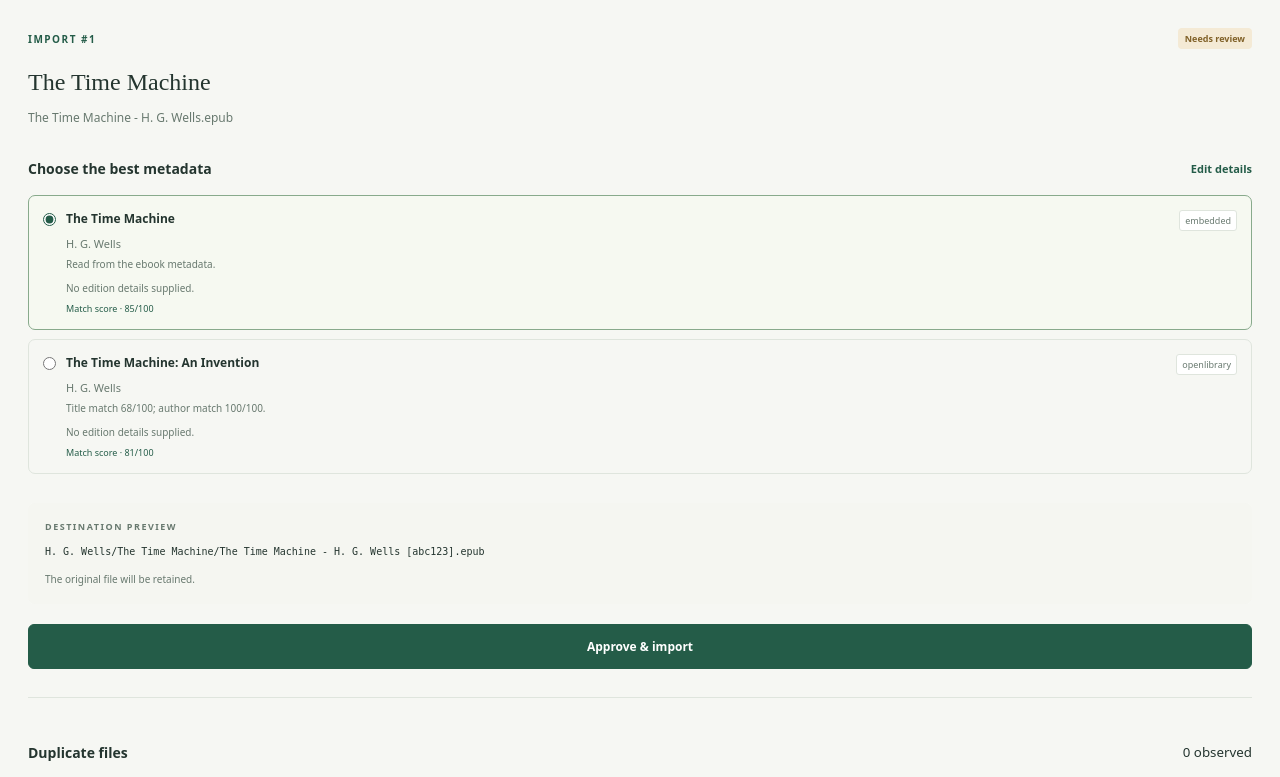
Scenario: keeps the review available after a failed approval
This screenshot has width=1280, height=777.
Expected: the text "H. G. Wells/The Time Machine/The Time Machine - H. G. Wells [abc123].epub" is shown, [45,546,484,557]
Click the button "Approve & import". click: (640, 646)
box: [28,624,1252,669]
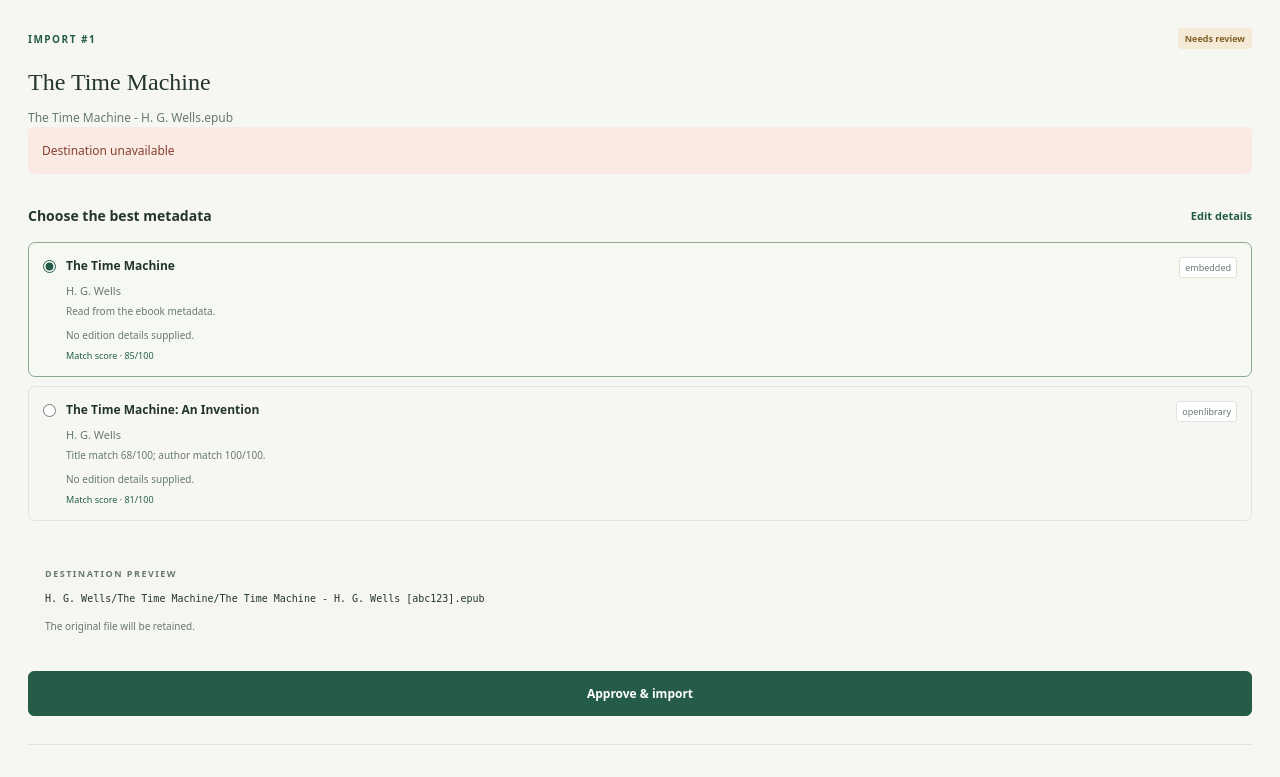
Expected: the button "Approve & import" is enabled, [28,671,1252,716]
Result: the message reads "Destination unavailable" at [42,142,175,159]
